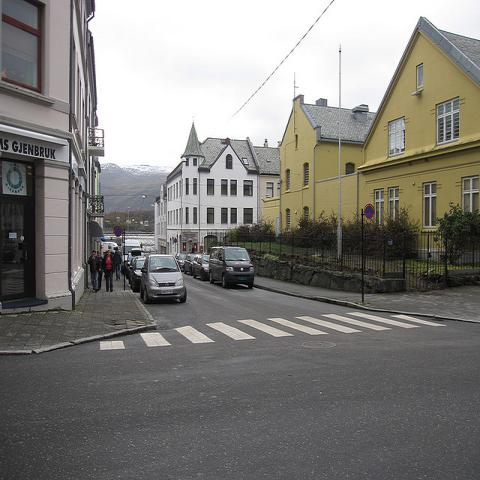car: (138, 253, 188, 305), (129, 256, 146, 292), (192, 253, 212, 279), (178, 252, 197, 277), (175, 252, 187, 271), (126, 251, 132, 279)
truck: (208, 246, 255, 290), (125, 239, 140, 254)
